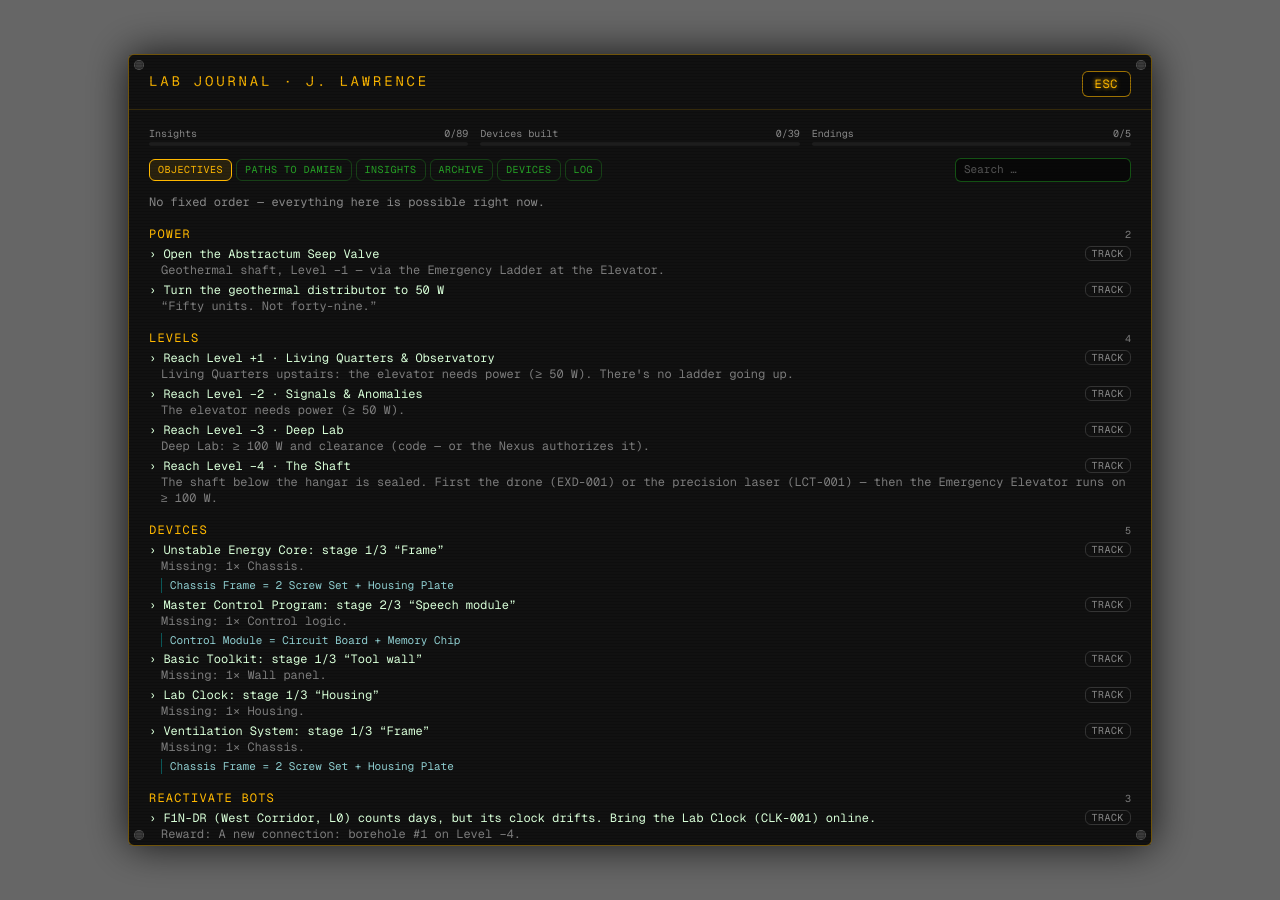
JournalPanel › search filters the log and progress bars are shown
The width and height of the screenshot is (1280, 900).
Click the tab "Log" at [583, 170], box [564, 159, 602, 181]
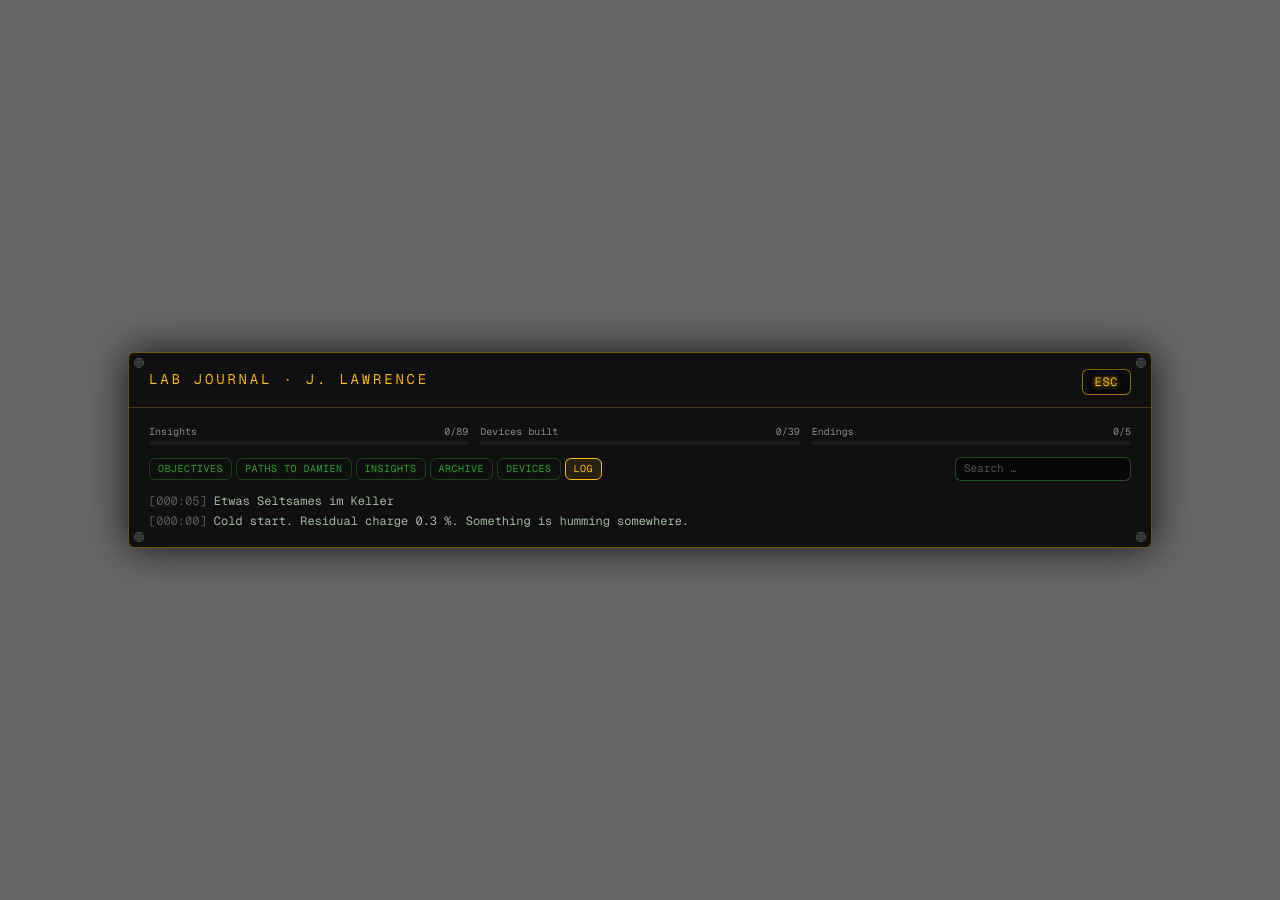
Type "seltsames" into the search field named "Search the journal" at [1043, 469], box [955, 457, 1131, 481]
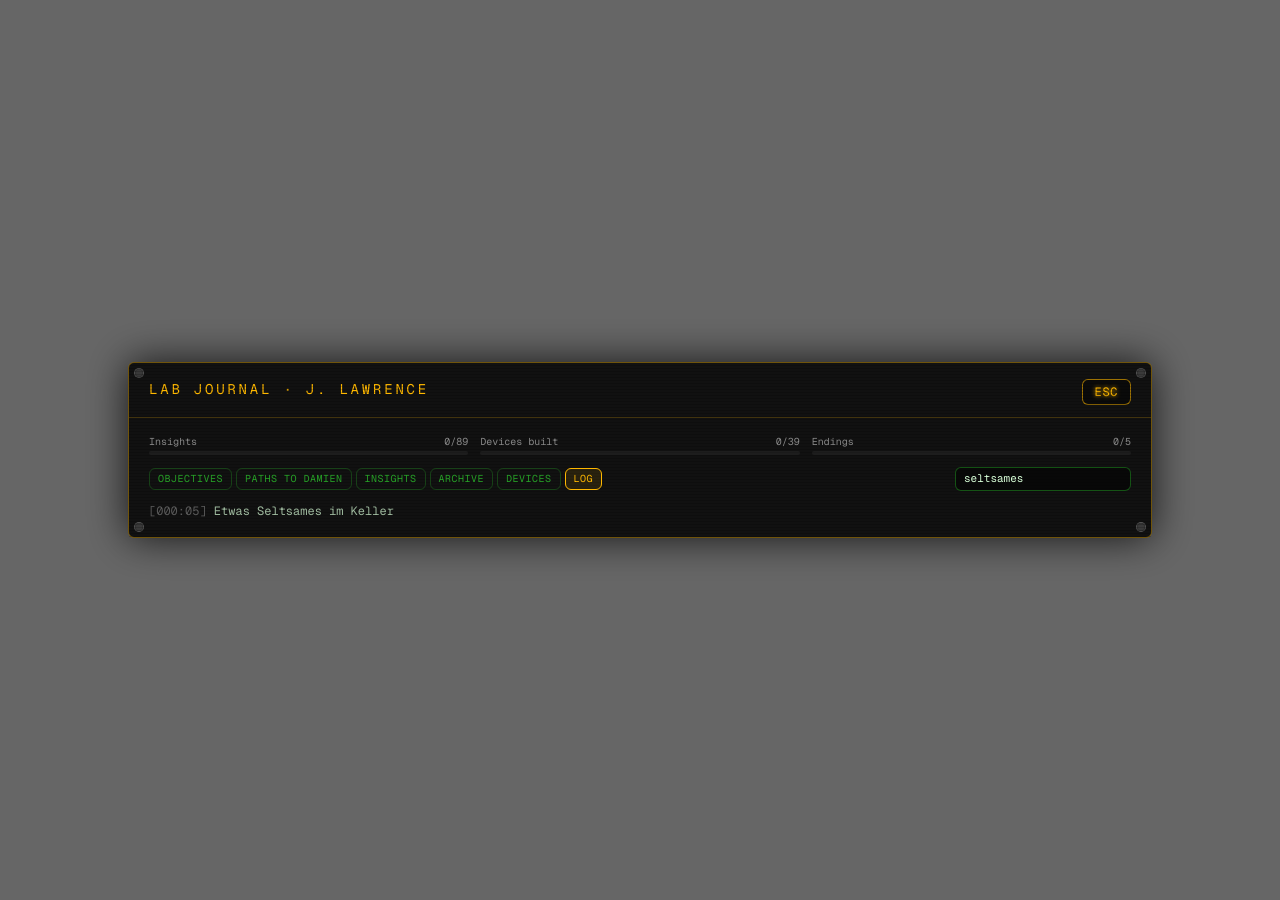
Expected: the text "[000:05] Etwas Seltsames im Keller" is shown, [149, 503, 394, 519]
Expected: the text "Cold start" is gone
